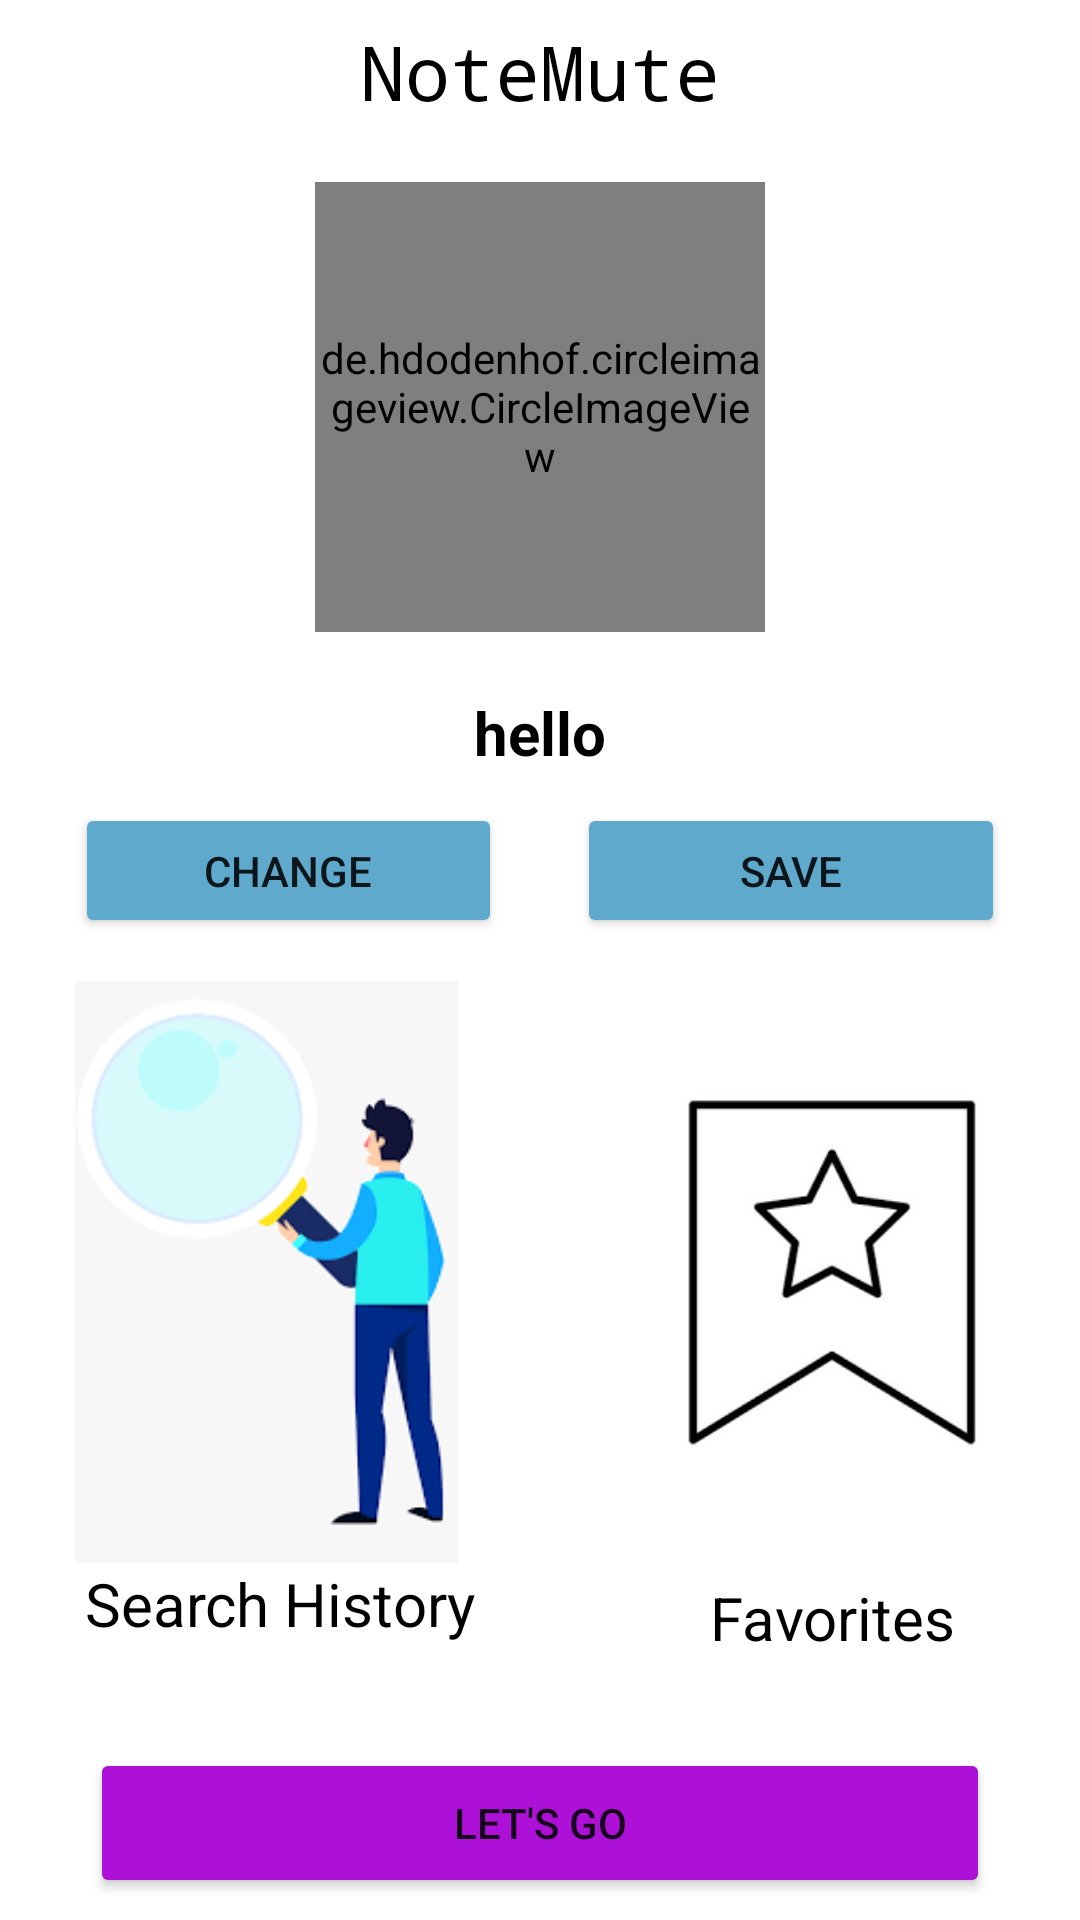

Icon click points for this 1080x1920 phone screenshot, format point (x, y):
fav: point (832, 1272)
